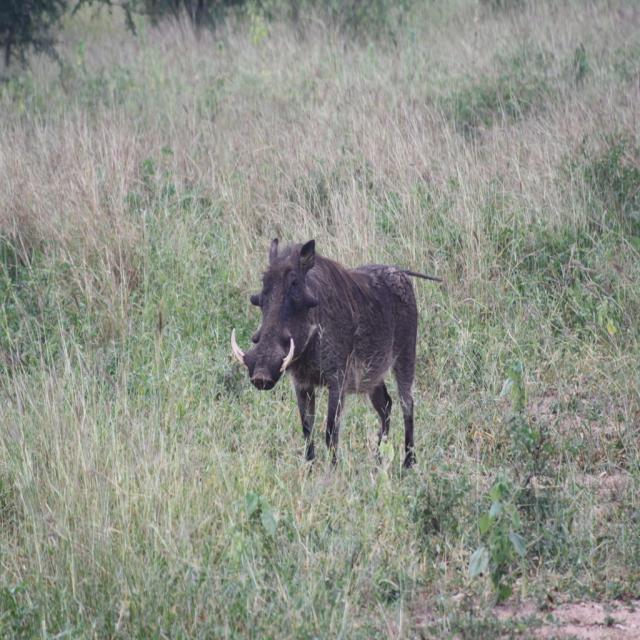Pig: (231, 237, 443, 473)
